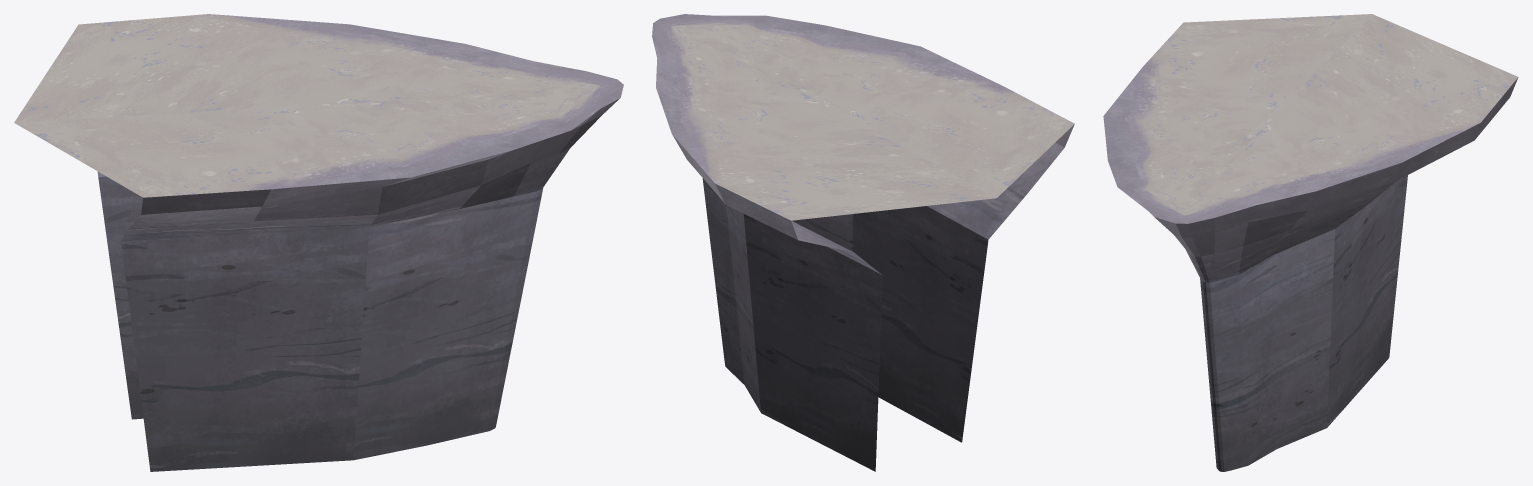
Rendered from start_platform.fbx.
3 views of the same model, side by side, from view 1: azimuth 30°, elevation 25°; view 2: azimuth 150°, elevation 25°; view 3: azimuth 270°, elevation 25° (orthographic). The views are drawn at different scales.
Parts seen in each view (by area): view 1: start platform; view 2: start platform; view 3: start platform.
Boxes of the visible parts, bbox=[...] form: start platform: bbox=[14, 14, 623, 471]; start platform: bbox=[652, 14, 1074, 471]; start platform: bbox=[1103, 14, 1518, 471].
Bounding box in the file's own units: 641 × 415 × 536.
